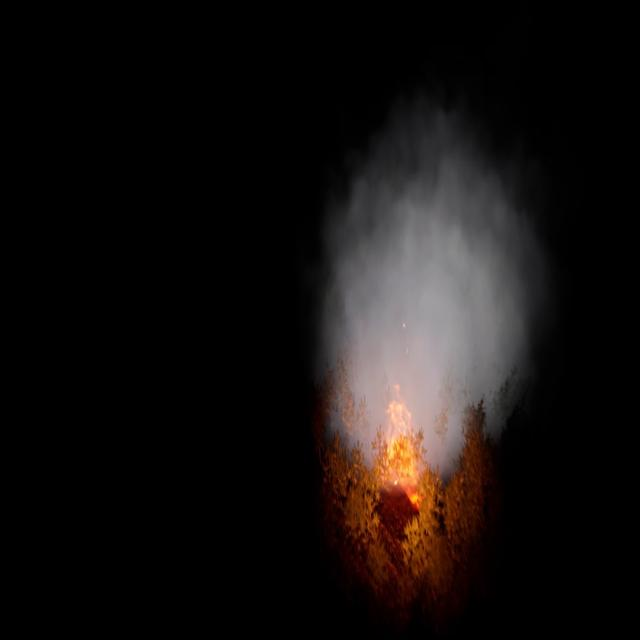fire: (373, 372, 424, 510)
smoke: (310, 82, 549, 474)
